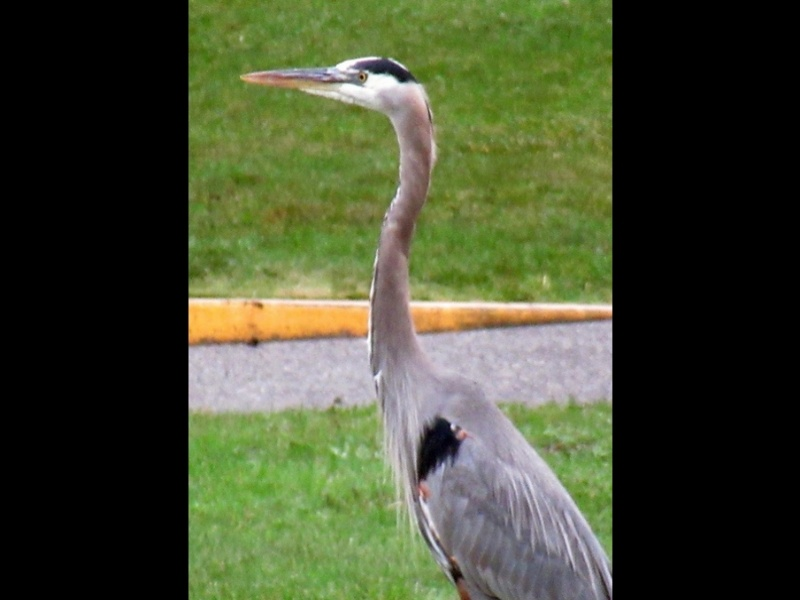heron: (235, 51, 588, 589)
